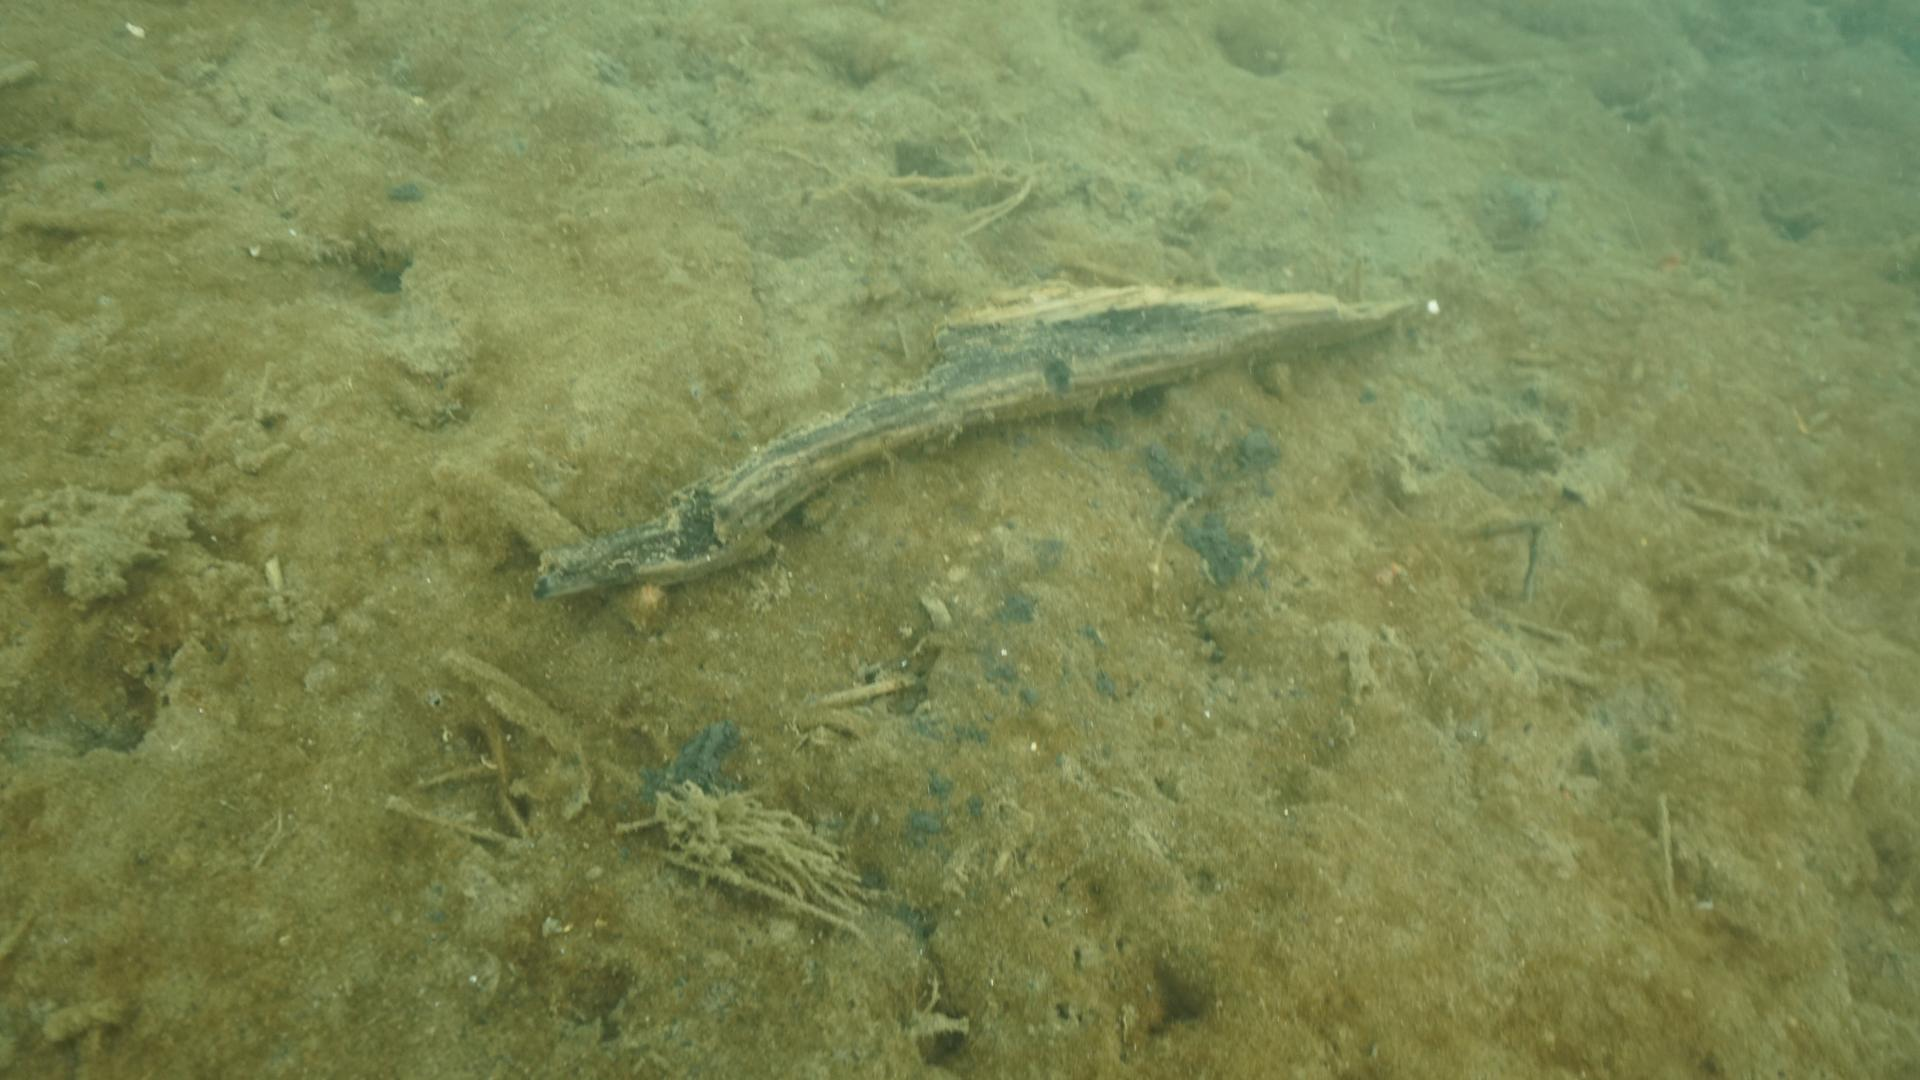wood: (527, 276, 1416, 601)
